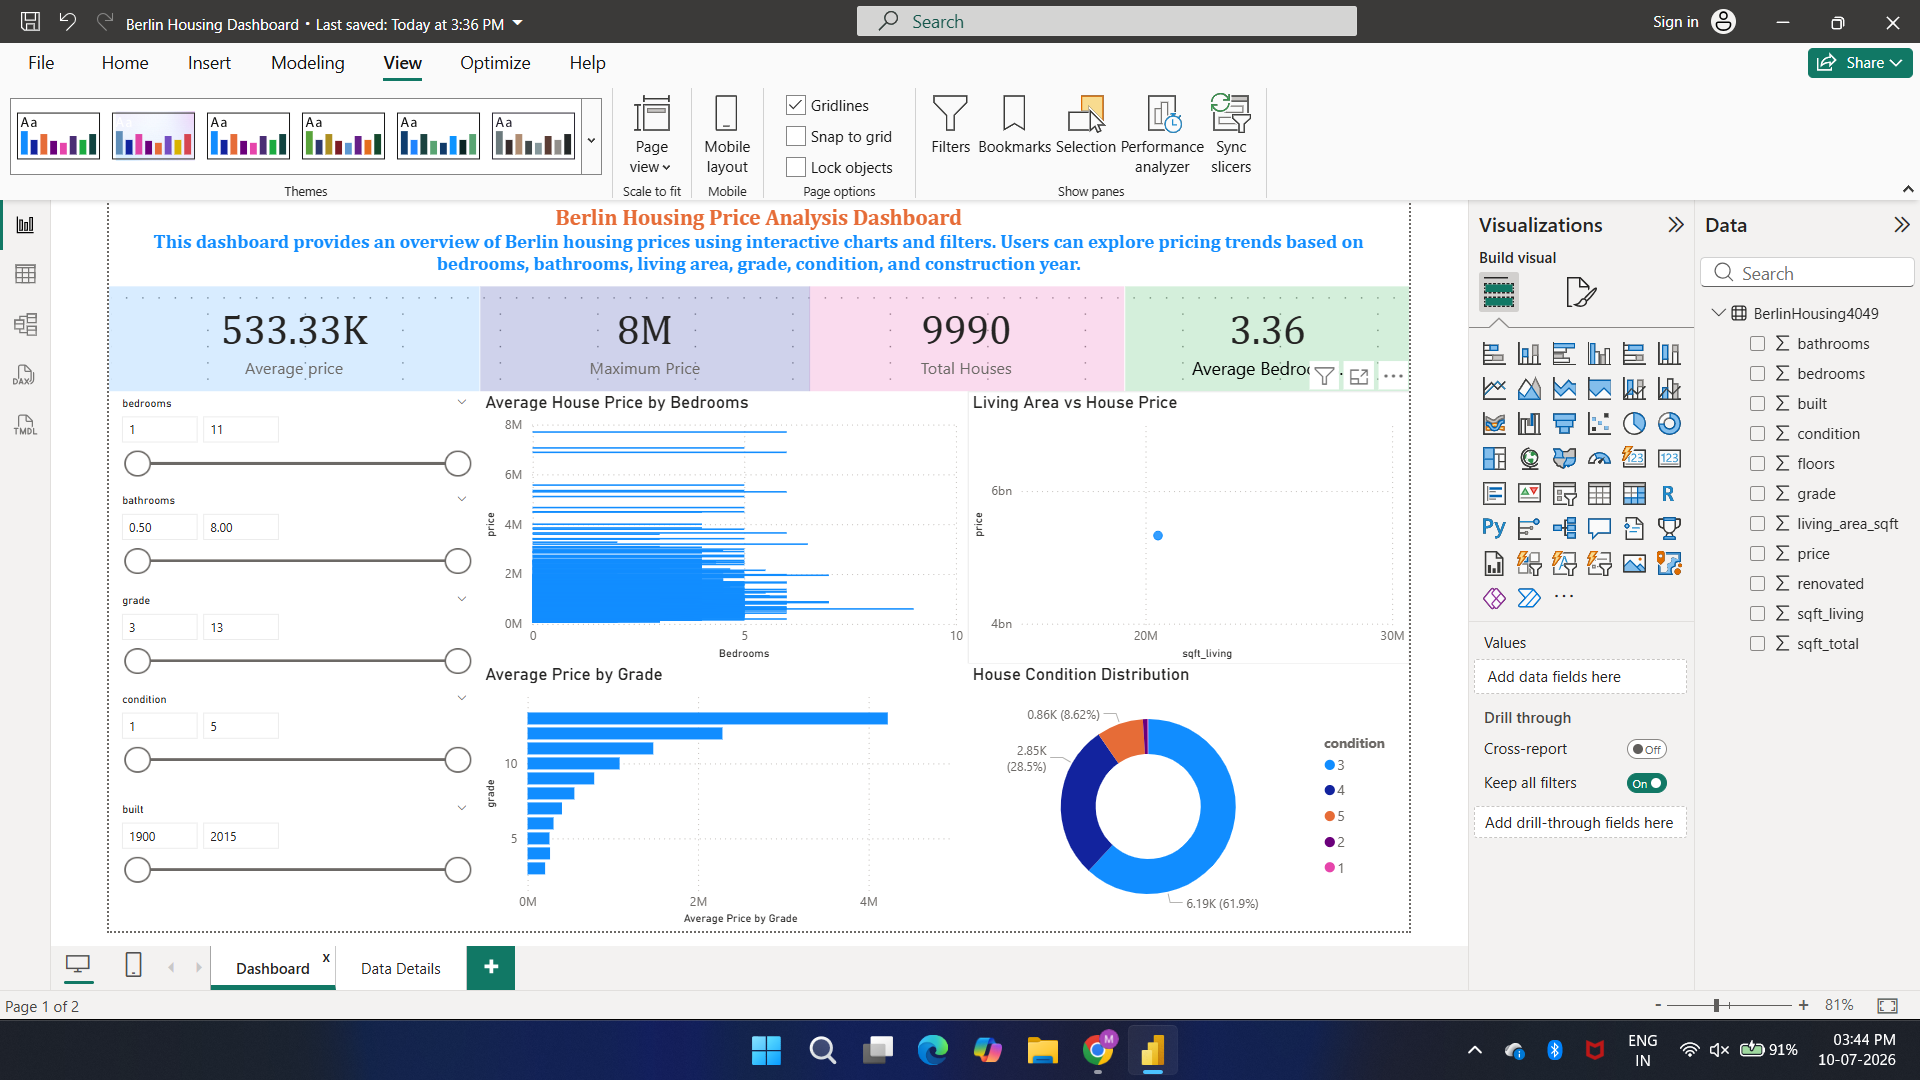

What the dashboard file says about the page in this screenshot:
{"tool":"powerbi","page":{"name":"Dashboard","canvas":[1280,720],"ordinal":0},"visuals":[{"type":"card","fields":{"Values":["Avg(BerlinHousing4049.bedrooms)"]},"box":[1000,84.4,280.5,103.9],"z":0},{"type":"card","fields":{"Values":["CountNonNull(BerlinHousing4049.price)"]},"box":[689.6,84.4,310.4,103.9],"z":1000},{"type":"card","fields":{"Values":["Max(BerlinHousing4049.price)"]},"box":[364.9,84.4,324.7,103.9],"z":2000},{"type":"card","fields":{"Values":["Avg(BerlinHousing4049.price)"]},"box":[0,84.4,364.9,103.9],"z":3000},{"type":"clusteredBarChart","title":"Average House Price by Bedrooms","fields":{"Category":["BerlinHousing4049.price"],"Y":["Avg(BerlinHousing4049.bedrooms)"]},"box":[364.9,188.3,480.5,268.8],"z":4000},{"type":"scatterChart","title":"Living Area vs House Price","fields":{"X":["Sum(BerlinHousing4049.sqft_living)"],"Y":["Sum(BerlinHousing4049.price)"]},"box":[845.5,188.3,435.1,268.8],"z":5000},{"type":"clusteredBarChart","title":"Average Price by Grade","fields":{"Category":["BerlinHousing4049.grade"],"Y":["Avg(BerlinHousing4049.price)"]},"box":[364.9,457.1,480.5,262.3],"z":6000},{"type":"donutChart","title":"House Condition Distribution","fields":{"Category":["BerlinHousing4049.condition"],"Y":["CountNonNull(BerlinHousing4049.condition)"]},"box":[845.5,457.1,433.8,262.3],"z":7000},{"type":"slicer","fields":{"Values":["BerlinHousing4049.bedrooms"]},"box":[0,188.3,364.9,96.1],"z":8000},{"type":"slicer","fields":{"Values":["BerlinHousing4049.bathrooms"]},"box":[0,284.4,364.9,98.7],"z":9000},{"type":"slicer","fields":{"Values":["BerlinHousing4049.grade"]},"box":[0,383.1,364.9,97.4],"z":10000},{"type":"slicer","fields":{"Values":["BerlinHousing4049.condition"]},"box":[0,480.5,364.9,107.8],"z":11000},{"type":"slicer","fields":{"Values":["BerlinHousing4049.built"]},"box":[0,588.3,364.9,131.2],"z":12000},{"type":"textbox","box":[0,0,1279.2,84.4],"z":13000}]}

Visuals, with their boxes on the page's 1280x720 design canvas (x1, y1, x2, y2). These are canvas units, not pixel positions in the 1920x1080 screenshot, which may show the page scaled, cropped or inside an application window:
card - Avg(BerlinHousing4049.bedrooms): 1000/84/1280/188
card - CountNonNull(BerlinHousing4049.price): 690/84/1000/188
card - Max(BerlinHousing4049.price): 365/84/690/188
card - Avg(BerlinHousing4049.price): 0/84/365/188
"Average House Price by Bedrooms" clusteredBarChart: 365/188/845/457
"Living Area vs House Price" scatterChart: 846/188/1281/457
"Average Price by Grade" clusteredBarChart: 365/457/845/719
"House Condition Distribution" donutChart: 846/457/1279/719
slicer - BerlinHousing4049.bedrooms: 0/188/365/284
slicer - BerlinHousing4049.bathrooms: 0/284/365/383
slicer - BerlinHousing4049.grade: 0/383/365/480
slicer - BerlinHousing4049.condition: 0/480/365/588
slicer - BerlinHousing4049.built: 0/588/365/720
textbox: 0/0/1279/84
